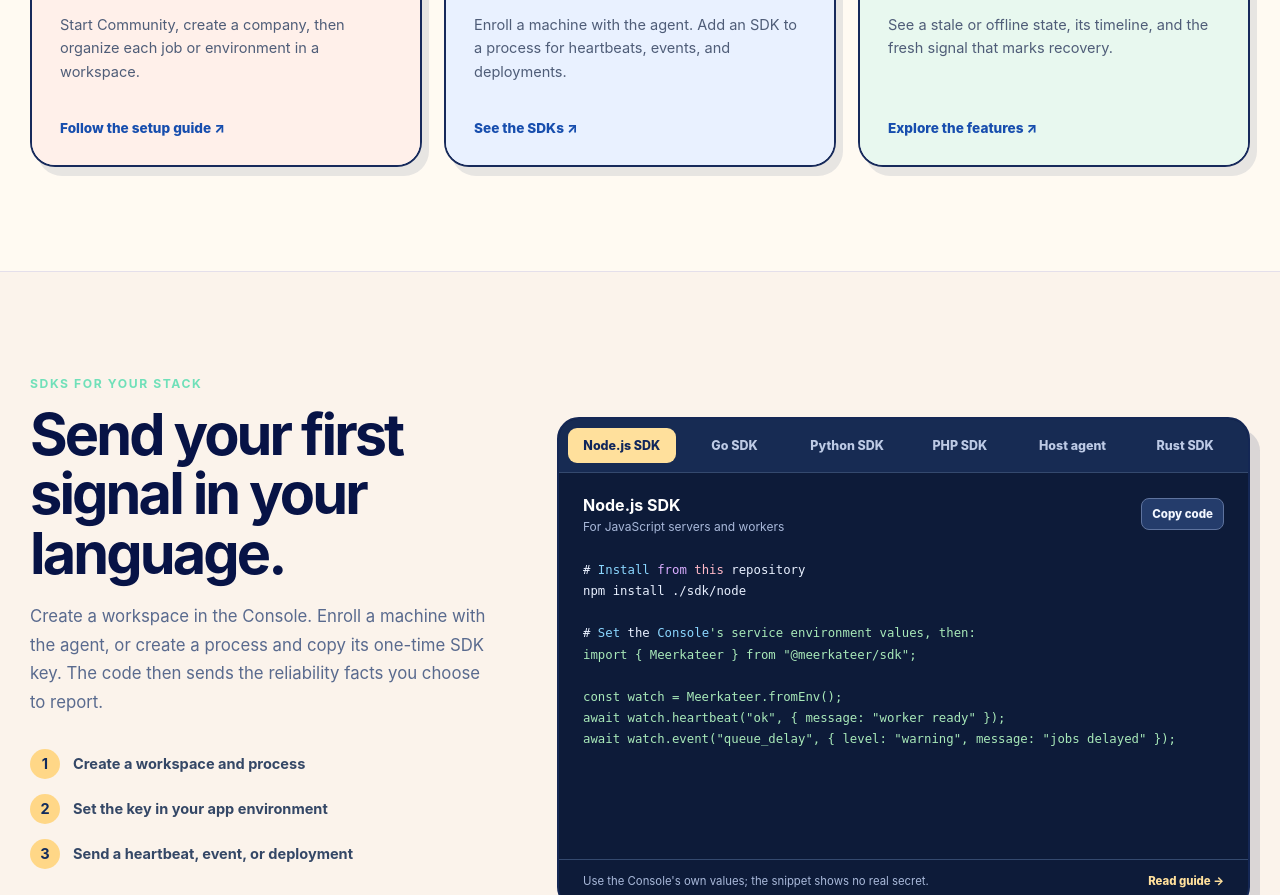
public resource links › shows a visual system map, mascot actions, and working code examples
(page scrolled)
Expected: the text "await watch.heartbeat(\"ok\"" is shown, [583, 626, 1176, 746]
Click the tab "Go SDK" at (735, 446), box [681, 428, 788, 463]
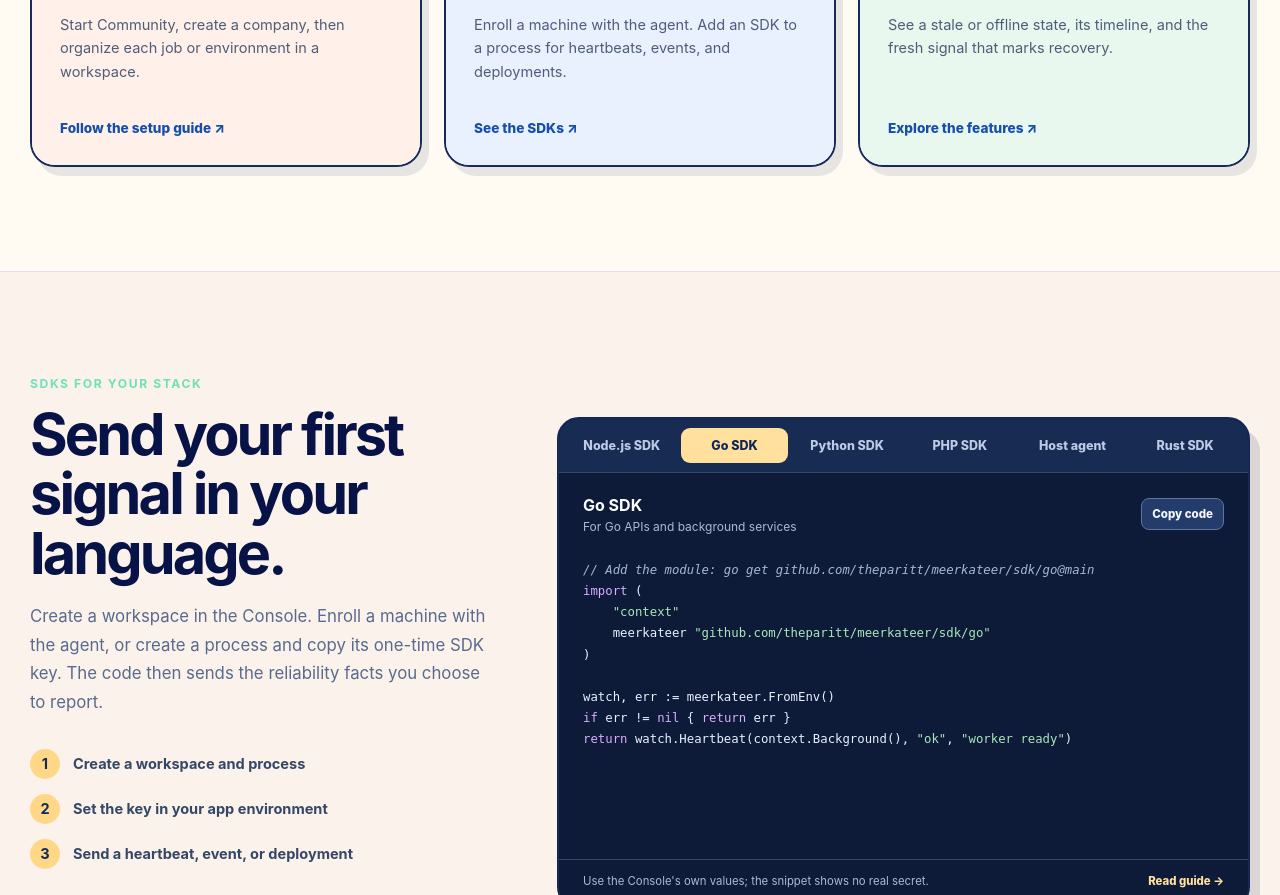
Expected: the panel shows "meerkateer.FromEnv", [583, 648, 835, 704]
Click the tab "Python SDK" at (847, 446), box [793, 428, 901, 463]
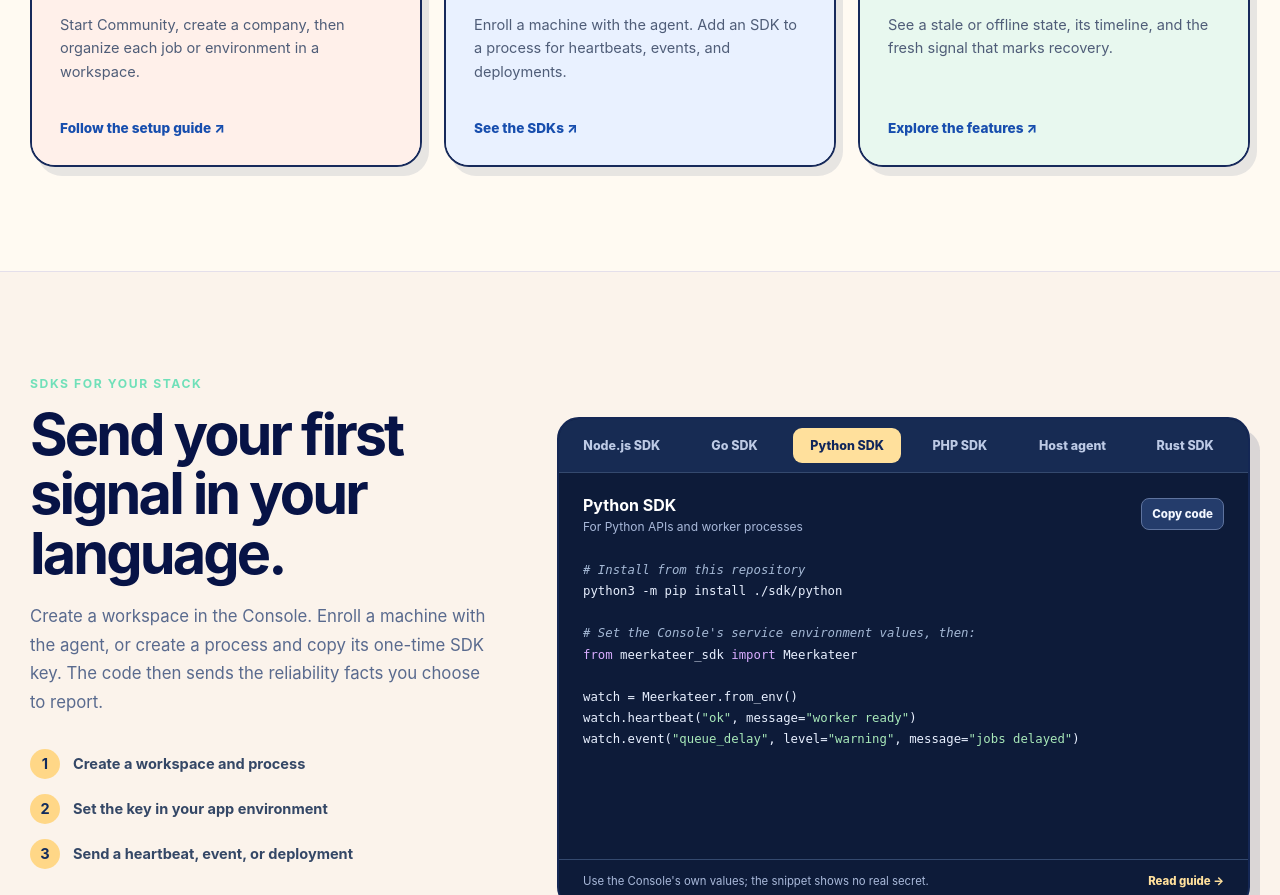
Now the panel shows "watch.heartbeat(\"ok\"", box [583, 563, 1080, 746]
Click the tab "PHP SDK" at (960, 446), box [906, 428, 1014, 463]
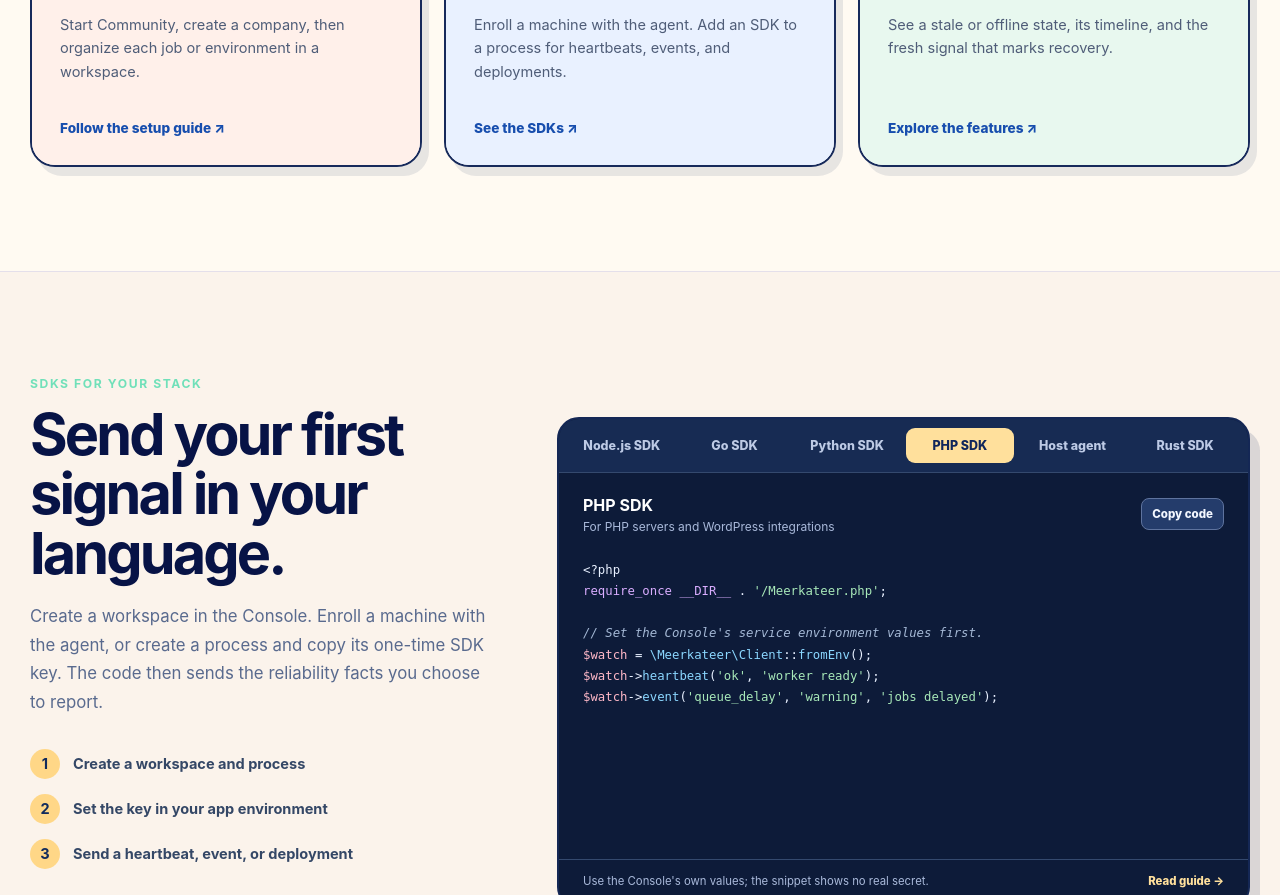
Now the panel shows "Client::fromEnv", box [583, 563, 998, 704]
Click the tab "Host agent" at (1073, 446), box [1019, 428, 1126, 463]
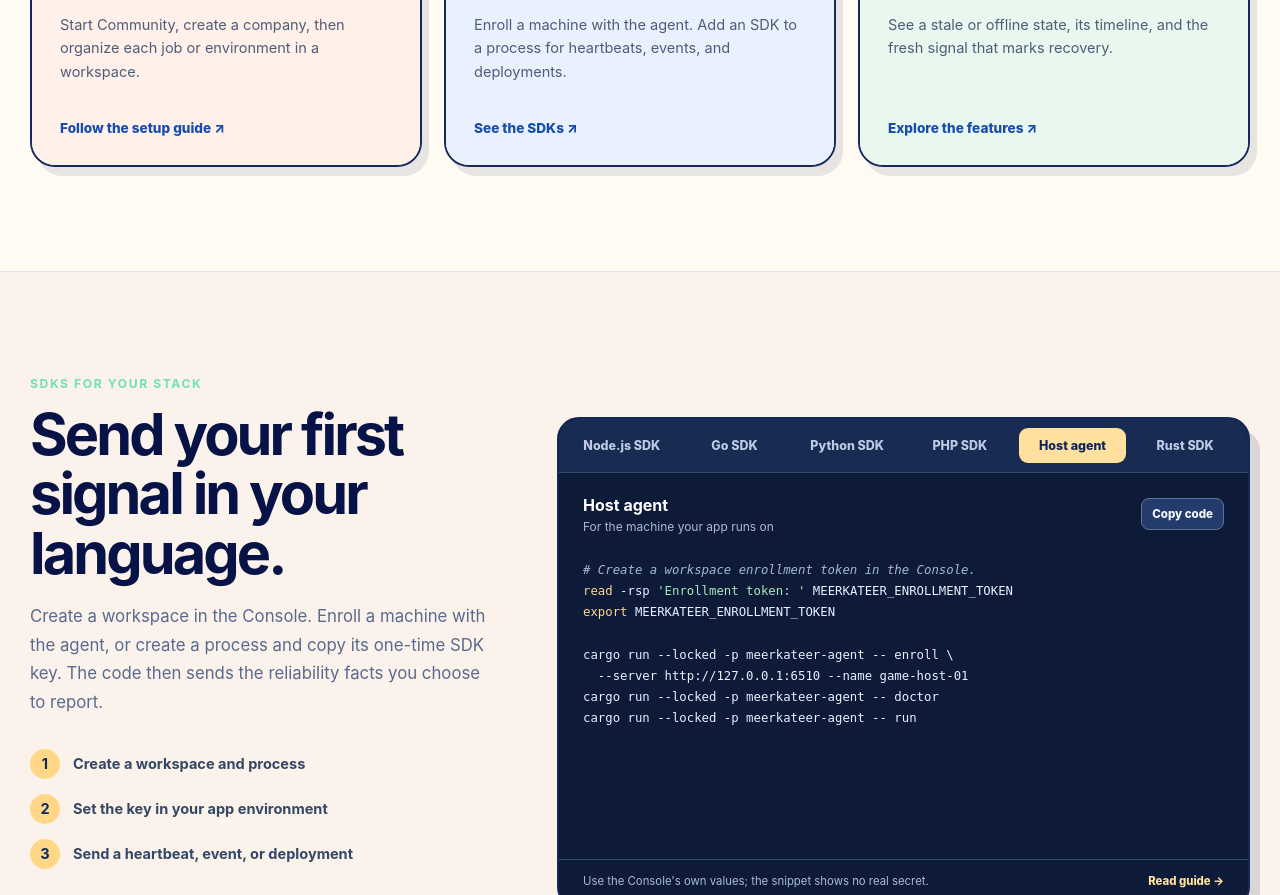
Now the panel shows "meerkateer-agent -- enroll", box [583, 605, 968, 725]
Click the tab "Rust SDK" at (1185, 446), box [1131, 428, 1239, 463]
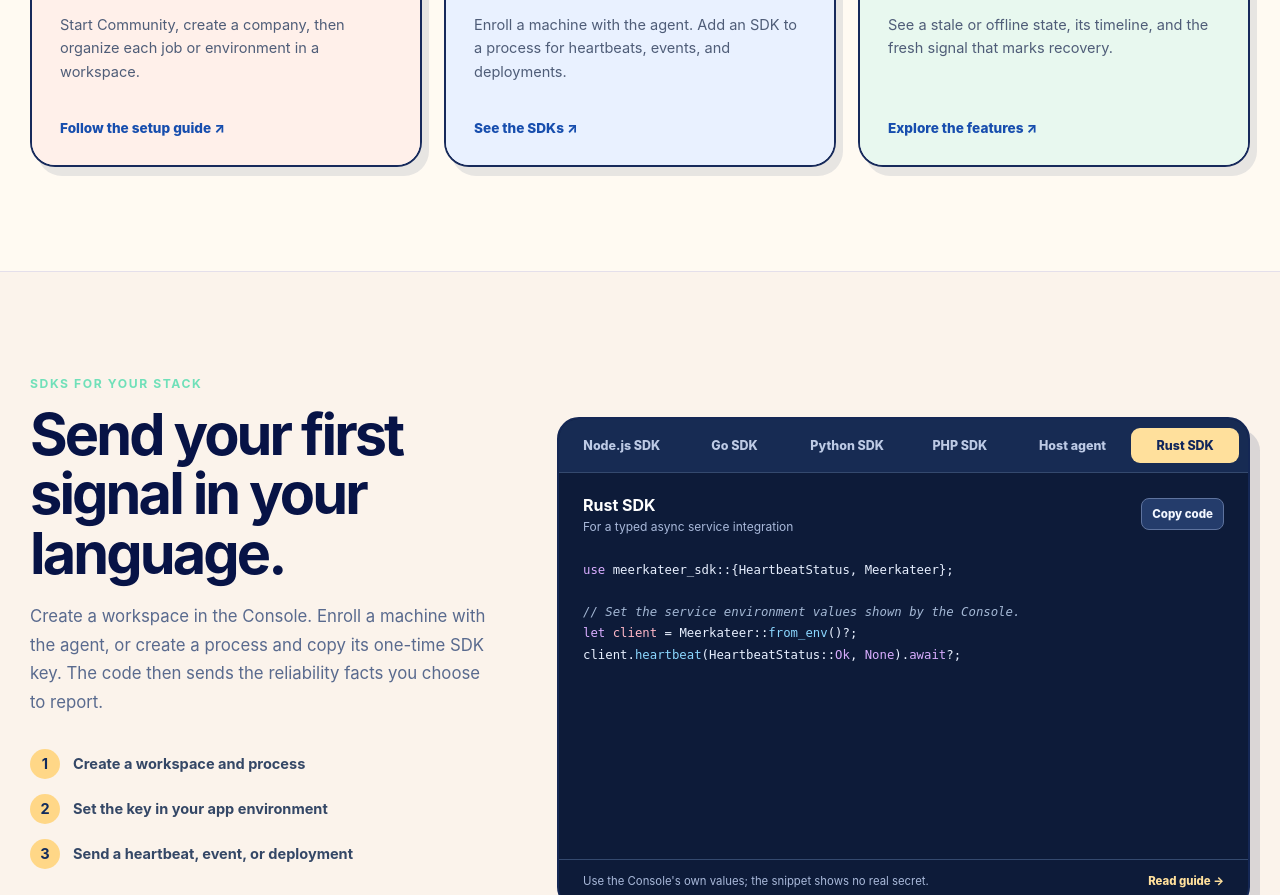
Now the panel shows "HeartbeatStatus::Ok", box [583, 563, 1020, 662]
Click the button with aria-label "Copy Rust SDK example" at (1183, 514), box [1141, 498, 1224, 530]
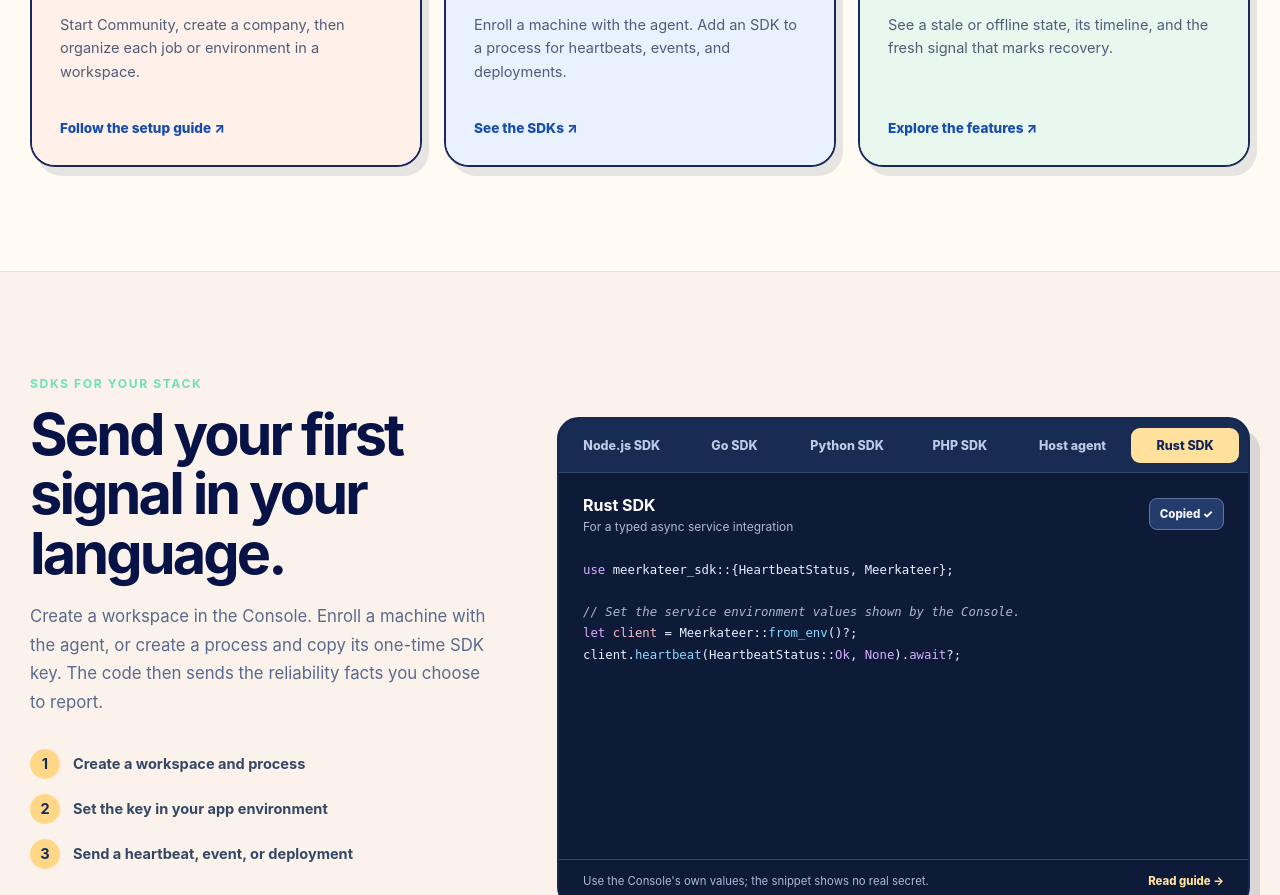
Now the button "Copied ✓" is shown, box [1149, 498, 1224, 530]
